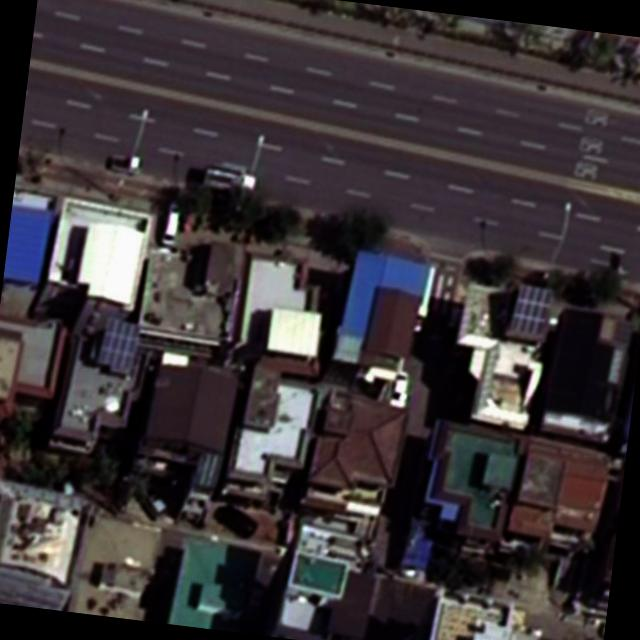solar: (508, 280, 556, 337), (98, 317, 142, 371)
